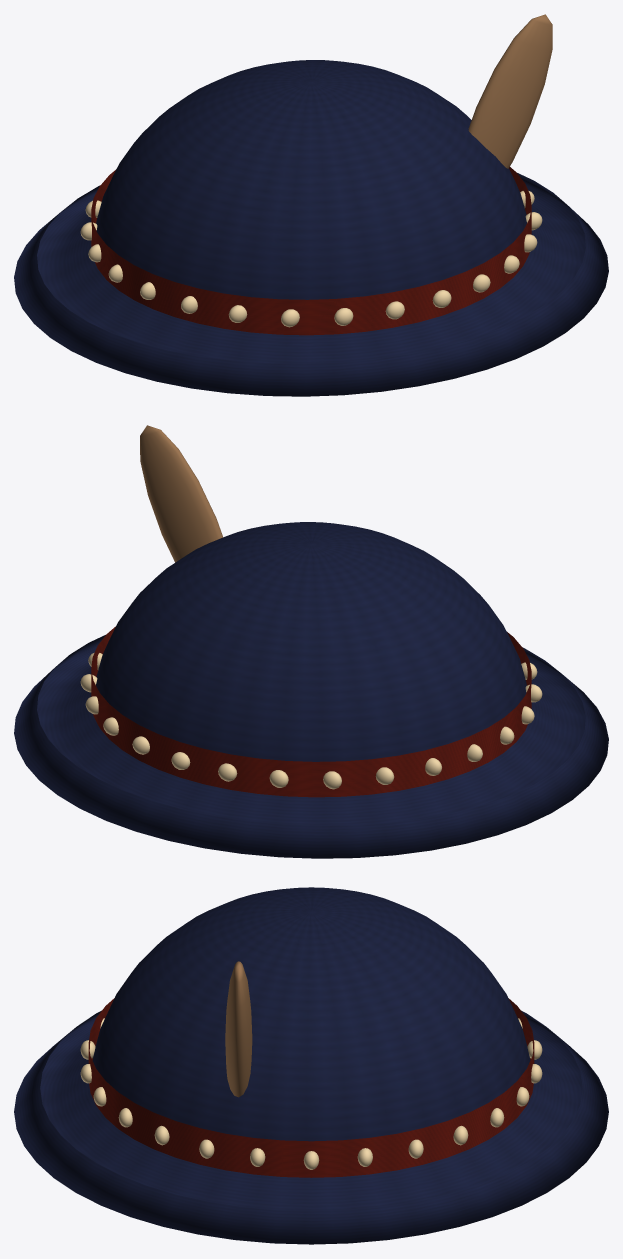
File: ranger.glb
The picture shows the model from 3 angles, top to bottom: view 1: azimuth 30°, elevation 25°; view 2: azimuth 150°, elevation 25°; view 3: azimuth 270°, elevation 25°; orthographic projection. The views are drawn at different scales.
Visible parts, largest first — view 1: Тулья, Поля, Тканая лента, Перо; view 2: Тулья, Поля, Тканая лента, Перо; view 3: Тулья, Поля, Тканая лента, Перо.
Part boxes in pixels (x1=…): Тулья: x1=96, y1=60, x2=526, y2=299; Поля: x1=14, y1=173, x2=608, y2=396; Тканая лента: x1=91, y1=167, x2=531, y2=335; Перо: x1=468, y1=14, x2=552, y2=168; Тулья: x1=96, y1=522, x2=526, y2=761; Поля: x1=14, y1=635, x2=608, y2=858; Тканая лента: x1=91, y1=626, x2=531, y2=797; Перо: x1=140, y1=425, x2=222, y2=562; Тулья: x1=92, y1=887, x2=530, y2=1141; Поля: x1=14, y1=1010, x2=608, y2=1244; Тканая лента: x1=88, y1=998, x2=534, y2=1177; Перо: x1=225, y1=961, x2=252, y2=1097.
Size of the model in its own units: 0.648 by 0.2811 by 0.614.
4 materials, 2 textured.
